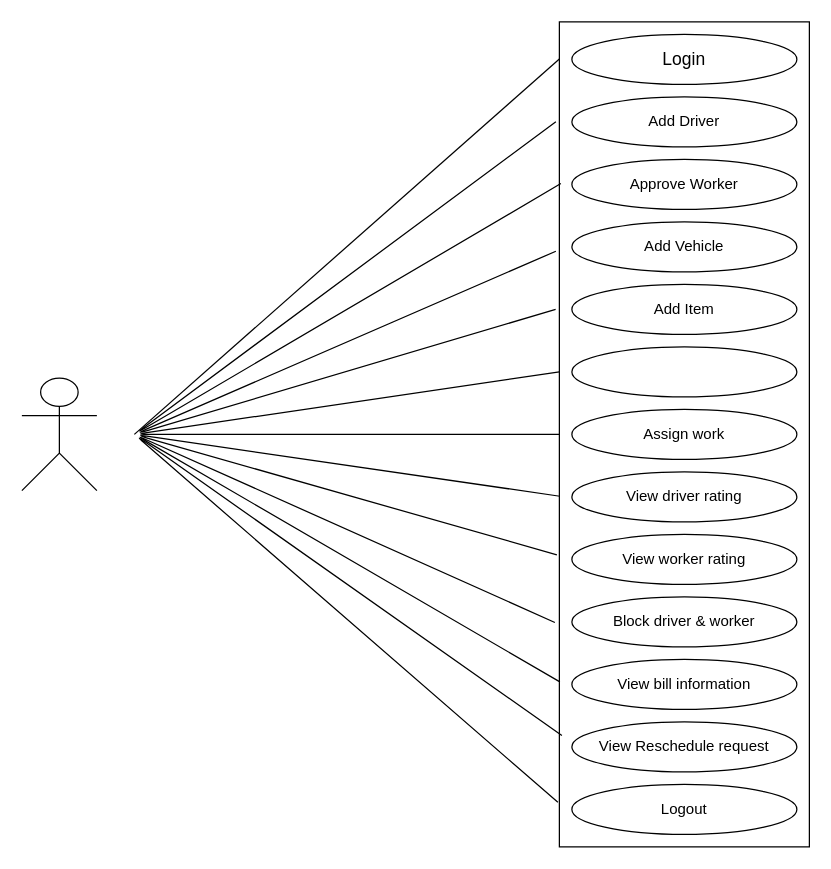
The diagram is 831 pixels wide and 869 high, and some of its shapes have lost their labels. The box of each missing label's shape, as (x1, y1, x2, y2) in pixels:
Admin: (21, 377, 97, 491)
View Request: (571, 346, 797, 397)
